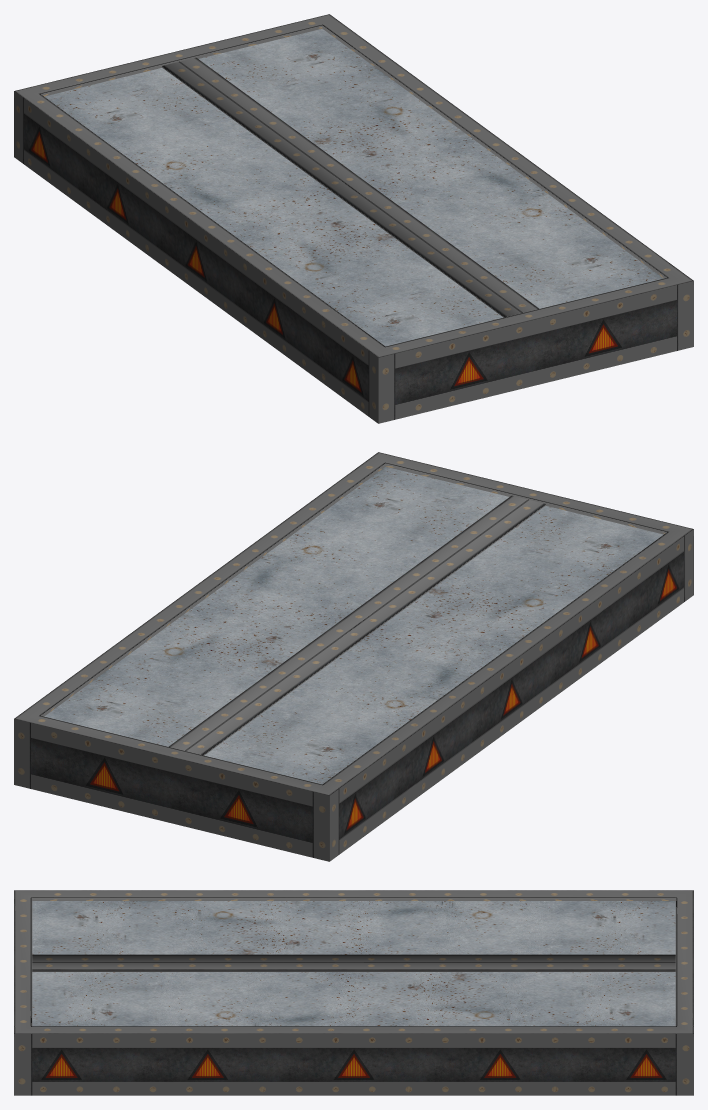
The model's file is Ob_RailUnderPlatform_RC.fbx.
The picture shows the model from 3 angles, top to bottom: view 1: azimuth 30°, elevation 25°; view 2: azimuth 150°, elevation 25°; view 3: azimuth 270°, elevation 25°; orthographic projection. The views are drawn at different scales.
Parts seen in each view (by area): view 1: Ob_RailUnderPlatform_RC; view 2: Ob_RailUnderPlatform_RC; view 3: Ob_RailUnderPlatform_RC.
Part boxes in pixels (x1,y1,x2,y2): Ob_RailUnderPlatform_RC: (14,14,693,423); Ob_RailUnderPlatform_RC: (14,452,693,861); Ob_RailUnderPlatform_RC: (14,890,693,1095).
Bounding box in the file's own units: 500 × 100 × 1000.
